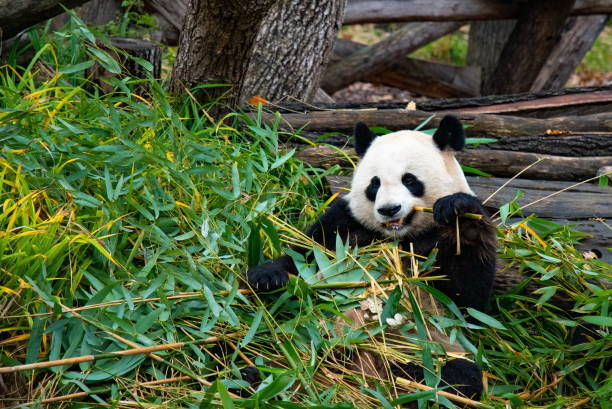panda: (318, 102, 477, 265)
